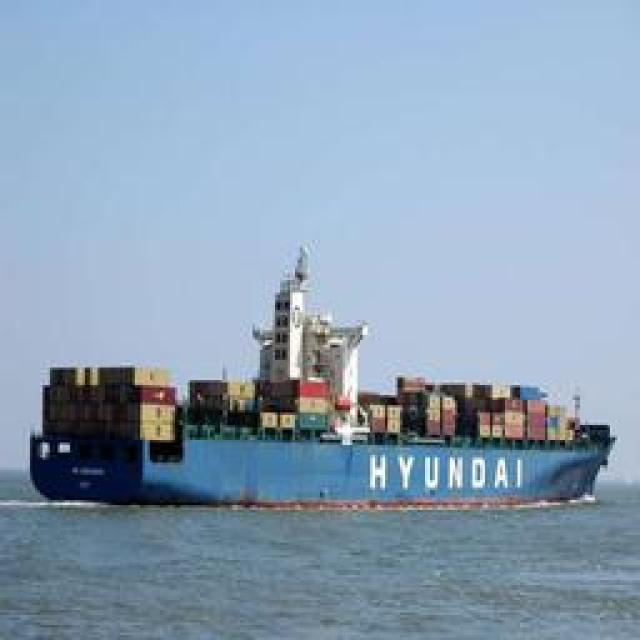ship2: (28, 245, 615, 513)
